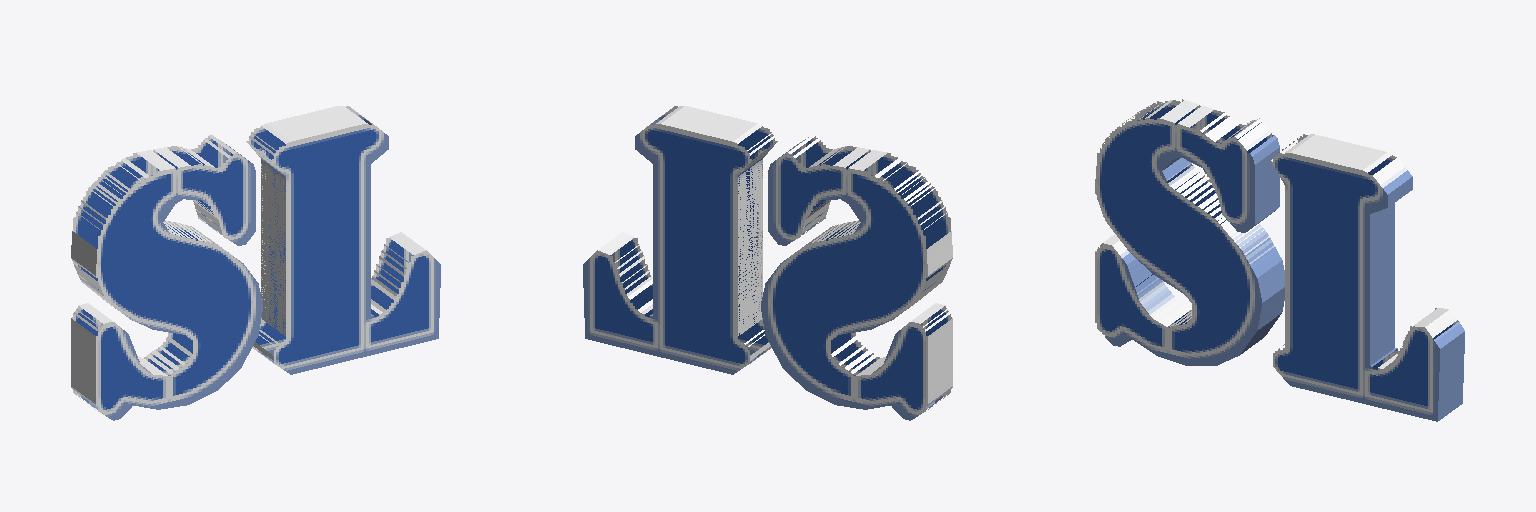
The picture shows the model from 3 angles: view 1: azimuth 30°, elevation 25°; view 2: azimuth 150°, elevation 25°; view 3: azimuth 330°, elevation 25°; orthographic projection.
Parts seen in each view (by area): view 1: Object.2, Object.1; view 2: Object.2, Object.1; view 3: Object.2, Object.1.
Part boxes in pixels (x1,y1,x2,y2): Object.2: (71, 135, 262, 420); Object.1: (246, 106, 440, 374); Object.2: (761, 135, 952, 420); Object.1: (583, 106, 777, 374); Object.2: (1095, 99, 1284, 365); Object.1: (1270, 134, 1464, 421).
Size of the model in its own units: 35.05 by 23.37 by 4.39.
Materials: 1 (1 with a texture image).